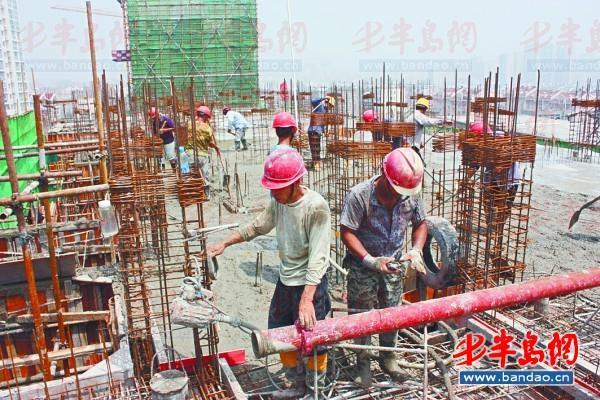helmet: (263, 148, 306, 191), (386, 149, 426, 192), (273, 113, 299, 134), (361, 108, 383, 127), (198, 107, 213, 122), (417, 97, 430, 112), (416, 99, 432, 111), (327, 96, 338, 111), (221, 104, 234, 116), (150, 108, 161, 120)
